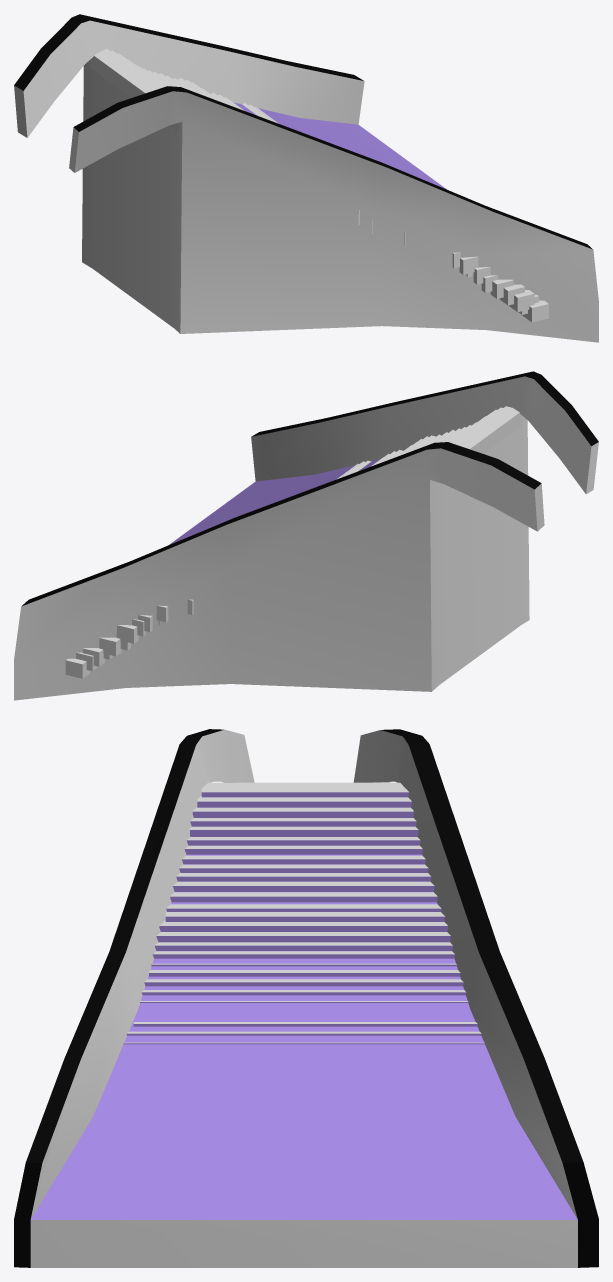
Rendered from monastarysteps.fbx.
3 views of the same model, one above another, from view 1: azimuth 30°, elevation 25°; view 2: azimuth 150°, elevation 25°; view 3: azimuth 270°, elevation 25° (orthographic). The views are drawn at different scales.
Visible parts, largest first — view 1: Stairsbase, monastarystepsfake; view 2: Stairsbase, monastarystepsfake; view 3: Stairsbase, monastarystepsfake.
Part boxes in pixels (box(x1,y1,x2,y2)): Stairsbase: box(14, 14, 598, 342); monastarystepsfake: box(90, 48, 548, 322); Stairsbase: box(14, 371, 598, 700); monastarystepsfake: box(65, 406, 522, 678); Stairsbase: box(14, 729, 598, 1267); monastarystepsfake: box(123, 782, 485, 1044).
Size of the model in its own units: 2893 by 1824 by 2924.
